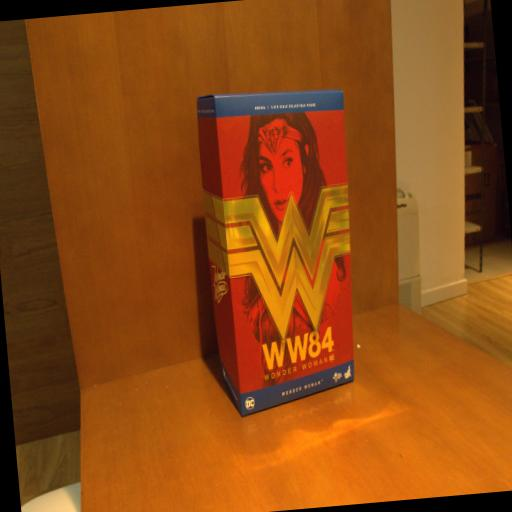WonderWoman: (193, 80, 371, 419)
